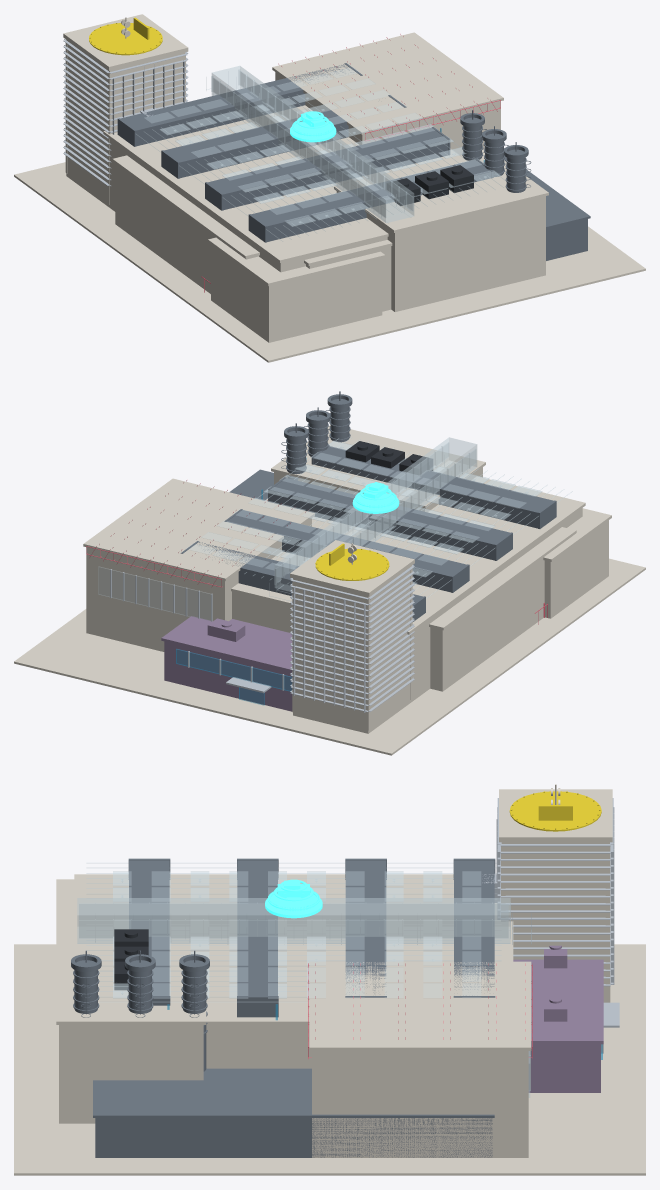
Rendered from hq_10_factory_l7.glb.
3 renders of one model, top to bottom at view 1: azimuth 30°, elevation 25°; view 2: azimuth 150°, elevation 25°; view 3: azimuth 270°, elevation 25°, orthographic. The views are drawn at different scales.
Parts seen in each view (by area): view 1: GEO_Factory_Sawtooth_Roof_Monitors, GEO_Factory_Paint_Shop_Shell, GEO_Factory_Foundation_Plinth, GEO_Factory_Final_Assembly_Hall, GEO_Factory_Photovoltaic_Solar_Canopy, GEO_Factory_Main_Assembly_Hall, GEO_Factory_BIW_Welding_Shell, GEO_Factory_Gigafactory_Tower_Shell, GEO_Factory_Visitor_SkyBridge_Glass, GEO_Factory_Battery_Marriage_Shell, GEO_Factory_Tower_Aero_Louvers, GEO_Factory_Paint_Exhaust_Stacks (+6 smaller); view 2: GEO_Factory_Final_Assembly_Hall, GEO_Factory_Sawtooth_Roof_Monitors, GEO_Factory_Foundation_Plinth, GEO_Factory_Gigafactory_Tower_Shell, GEO_Factory_Photovoltaic_Solar_Canopy, GEO_Factory_Main_Assembly_Hall, GEO_Factory_Battery_Marriage_Shell, GEO_Factory_Management_Office, GEO_Factory_Tower_Aero_Louvers, GEO_Factory_Visitor_SkyBridge_Glass, GEO_Factory_Paint_Shop_Shell, GEO_Factory_BIW_Welding_Shell (+10 smaller); view 3: GEO_Factory_Final_Assembly_Hall, GEO_Factory_Foundation_Plinth, GEO_Factory_Main_Assembly_Hall, GEO_Factory_Freight_Dock_Bays, GEO_Factory_Sawtooth_Roof_Monitors, GEO_Factory_Photovoltaic_Solar_Canopy, GEO_Factory_Visitor_SkyBridge_Glass, GEO_Factory_Paint_Shop_Shell, GEO_Factory_Gigafactory_Tower_Shell, GEO_Factory_Management_Office, GEO_Factory_Tower_Aero_Louvers, GEO_Factory_Paint_Exhaust_Stacks (+4 smaller).
Part boxes in pixels (x1=…): GEO_Factory_Sawtooth_Roof_Monitors: x1=117, y1=63, x2=493, y2=242; GEO_Factory_Paint_Shop_Shell: x1=334, y1=150, x2=548, y2=311; GEO_Factory_Foundation_Plinth: x1=14, y1=162, x2=645, y2=362; GEO_Factory_Final_Assembly_Hall: x1=272, y1=32, x2=503, y2=155; GEO_Factory_Photovoltaic_Solar_Canopy: x1=117, y1=67, x2=505, y2=241; GEO_Factory_Main_Assembly_Hall: x1=103, y1=105, x2=459, y2=272; GEO_Factory_BIW_Welding_Shell: x1=208, y1=237, x2=385, y2=342; GEO_Factory_Gigafactory_Tower_Shell: x1=63, y1=14, x2=188, y2=204; GEO_Factory_Visitor_SkyBridge_Glass: x1=206, y1=66, x2=414, y2=223; GEO_Factory_Battery_Marriage_Shell: x1=112, y1=155, x2=259, y2=293; GEO_Factory_Tower_Aero_Louvers: x1=63, y1=39, x2=188, y2=186; GEO_Factory_Paint_Exhaust_Stacks: x1=460, y1=110, x2=531, y2=192; GEO_Factory_Final_Assembly_Hall: x1=83, y1=478, x2=314, y2=651; GEO_Factory_Sawtooth_Roof_Monitors: x1=180, y1=445, x2=556, y2=621; GEO_Factory_Foundation_Plinth: x1=14, y1=558, x2=645, y2=755; GEO_Factory_Gigafactory_Tower_Shell: x1=290, y1=540, x2=414, y2=733; GEO_Factory_Photovoltaic_Solar_Canopy: x1=186, y1=437, x2=572, y2=598; GEO_Factory_Main_Assembly_Hall: x1=231, y1=476, x2=585, y2=703; GEO_Factory_Battery_Marriage_Shell: x1=429, y1=527, x2=576, y2=691; GEO_Factory_Management_Office: x1=161, y1=616, x2=292, y2=711; GEO_Factory_Tower_Aero_Louvers: x1=290, y1=565, x2=414, y2=712; GEO_Factory_Visitor_SkyBridge_Glass: x1=269, y1=437, x2=477, y2=601; GEO_Factory_Paint_Shop_Shell: x1=271, y1=425, x2=485, y2=512; GEO_Factory_BIW_Welding_Shell: x1=543, y1=508, x2=611, y2=618; GEO_Factory_Final_Assembly_Hall: x1=309, y1=961, x2=531, y2=1157; GEO_Factory_Foundation_Plinth: x1=14, y1=944, x2=645, y2=1175; GEO_Factory_Main_Assembly_Hall: x1=74, y1=874, x2=513, y2=1068; GEO_Factory_Freight_Dock_Bays: x1=93, y1=1068, x2=494, y2=1157; GEO_Factory_Sawtooth_Roof_Monitors: x1=128, y1=858, x2=495, y2=1017; GEO_Factory_Photovoltaic_Solar_Canopy: x1=86, y1=862, x2=501, y2=1002; GEO_Factory_Visitor_SkyBridge_Glass: x1=77, y1=898, x2=531, y2=944; GEO_Factory_Paint_Shop_Shell: x1=56, y1=927, x2=206, y2=1123; GEO_Factory_Gigafactory_Tower_Shell: x1=499, y1=784, x2=612, y2=1002; GEO_Factory_Management_Office: x1=513, y1=945, x2=603, y2=1092; GEO_Factory_Tower_Aero_Louvers: x1=482, y1=798, x2=614, y2=986; GEO_Factory_Paint_Exhaust_Stacks: x1=71, y1=950, x2=209, y2=1071.
Size of what is drawn, in the model's own units: 60 by 25.4 by 70.
